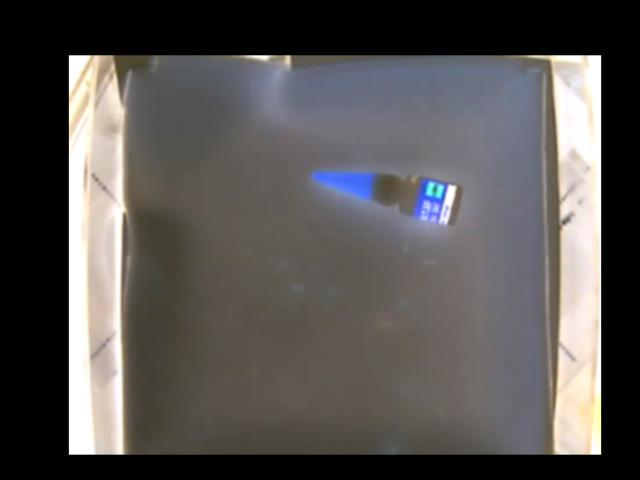Bottle: (313, 170, 462, 223)
